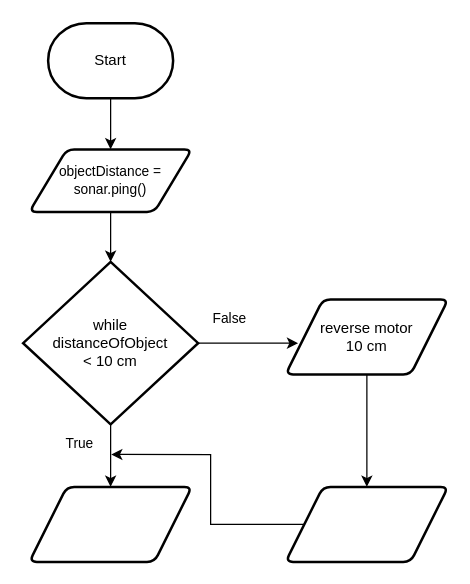
This 470x584 diagram has some shape labels left out. The shapes that lost their labels are listed below. From the top down, each one's centre as x and y in pixels, then its label:
At (x=110, y=523): "rotate motors forward".
At (x=366, y=523): "turn motor 90°".
